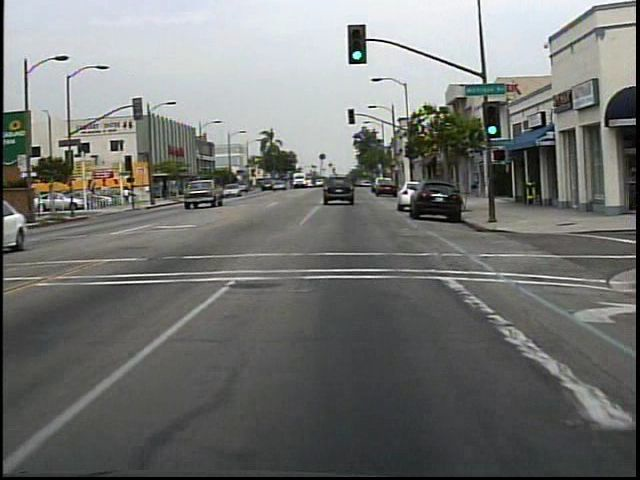person: (124, 183, 132, 207)
